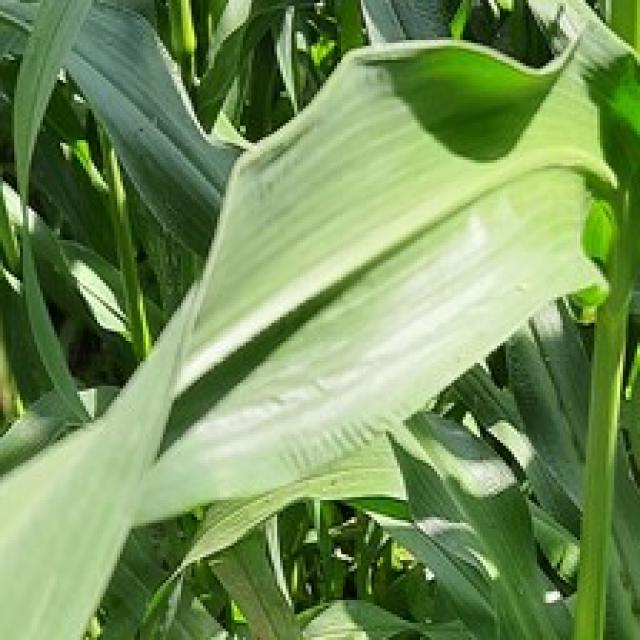Corn: (0, 0, 626, 637)
